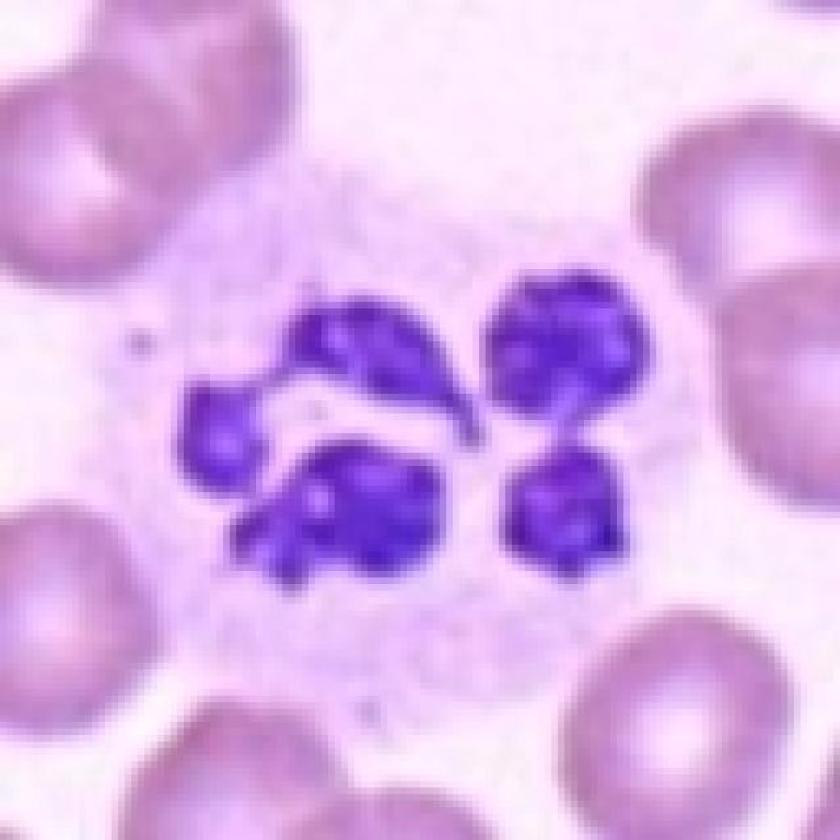neutrophil: (158, 177, 719, 746)
